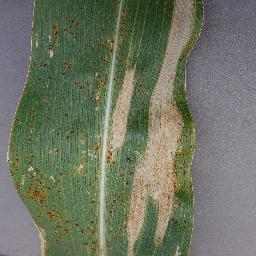Corn_Blight: (147, 52, 196, 143), (128, 144, 202, 202), (125, 201, 196, 236), (164, 0, 210, 52), (103, 2, 130, 52), (36, 202, 69, 238), (108, 94, 132, 138), (6, 121, 34, 152), (6, 156, 43, 179), (12, 181, 54, 201), (13, 96, 49, 119), (74, 220, 96, 256), (104, 139, 126, 170), (117, 61, 138, 93), (51, 17, 81, 38), (105, 173, 118, 217), (26, 40, 57, 57), (91, 70, 106, 100), (28, 0, 38, 40), (175, 238, 197, 256), (58, 125, 80, 142), (123, 236, 142, 254), (54, 167, 64, 199), (23, 72, 51, 83), (59, 59, 75, 78), (70, 163, 90, 175), (85, 39, 103, 52), (72, 80, 90, 92), (151, 237, 165, 252), (120, 172, 129, 195), (87, 139, 98, 157), (28, 59, 51, 67), (40, 147, 61, 155), (85, 195, 94, 206), (64, 108, 72, 118)
